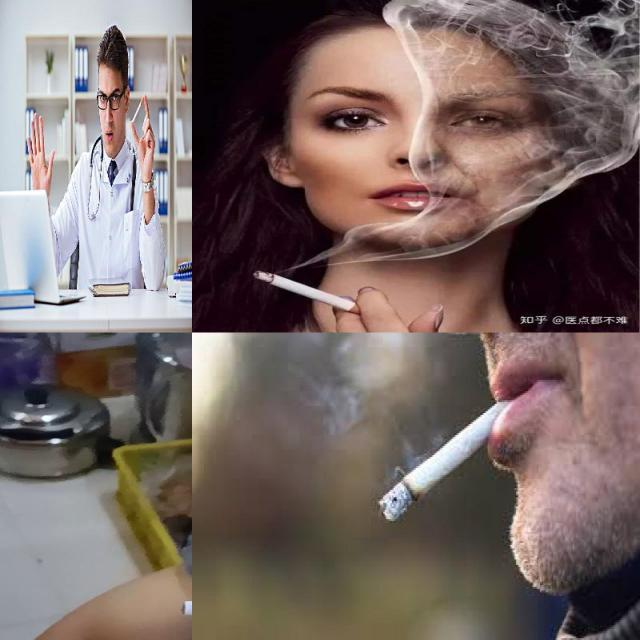smoke: (379, 391, 528, 524), (252, 270, 384, 322), (131, 93, 146, 123)
